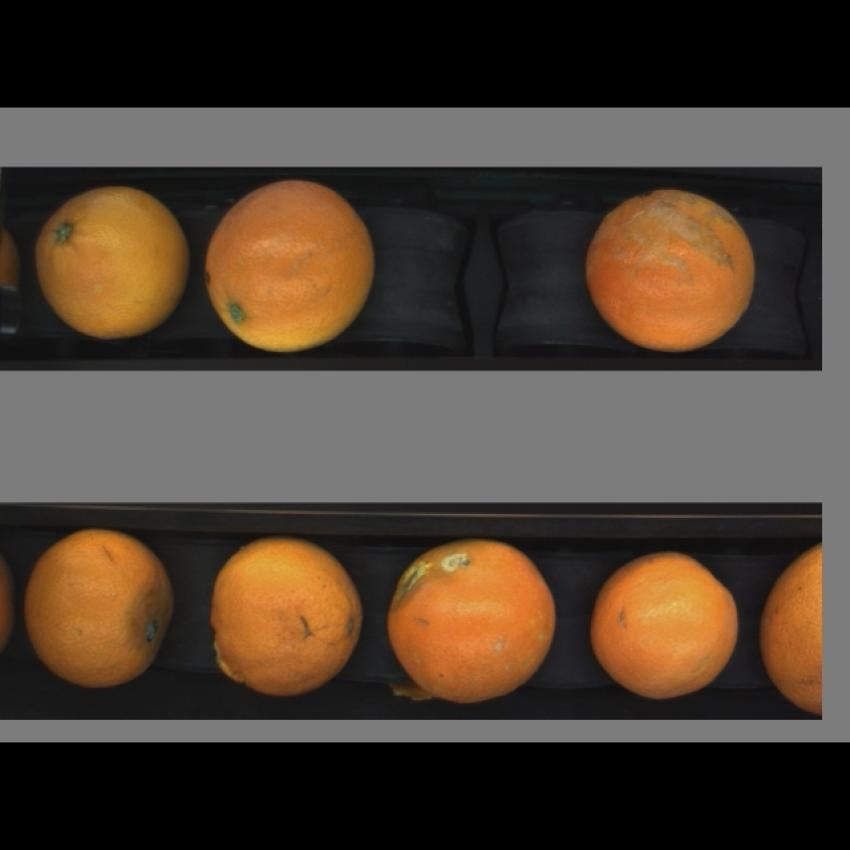Buen estado: (32, 182, 190, 346)
Mal estado: (580, 178, 764, 352), (200, 174, 380, 351), (380, 536, 562, 705), (208, 540, 364, 702), (22, 530, 175, 691), (590, 551, 742, 694), (759, 541, 822, 707)
